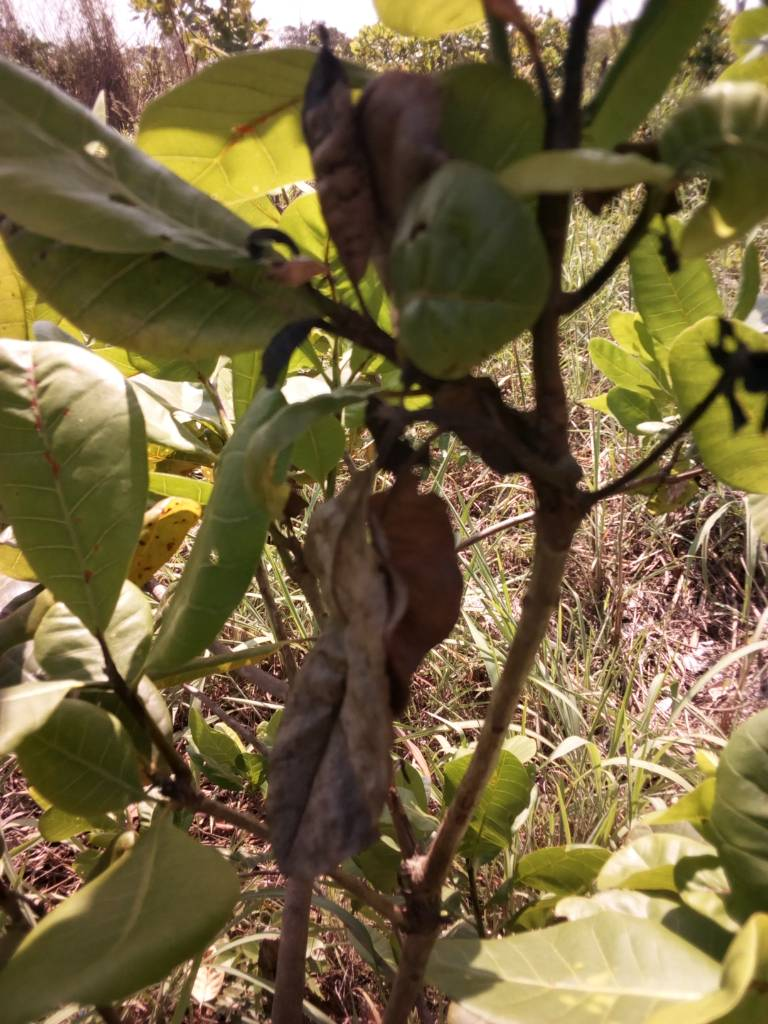Dessèchement des bourgeons: (562, 130, 768, 442), (260, 313, 472, 474)
